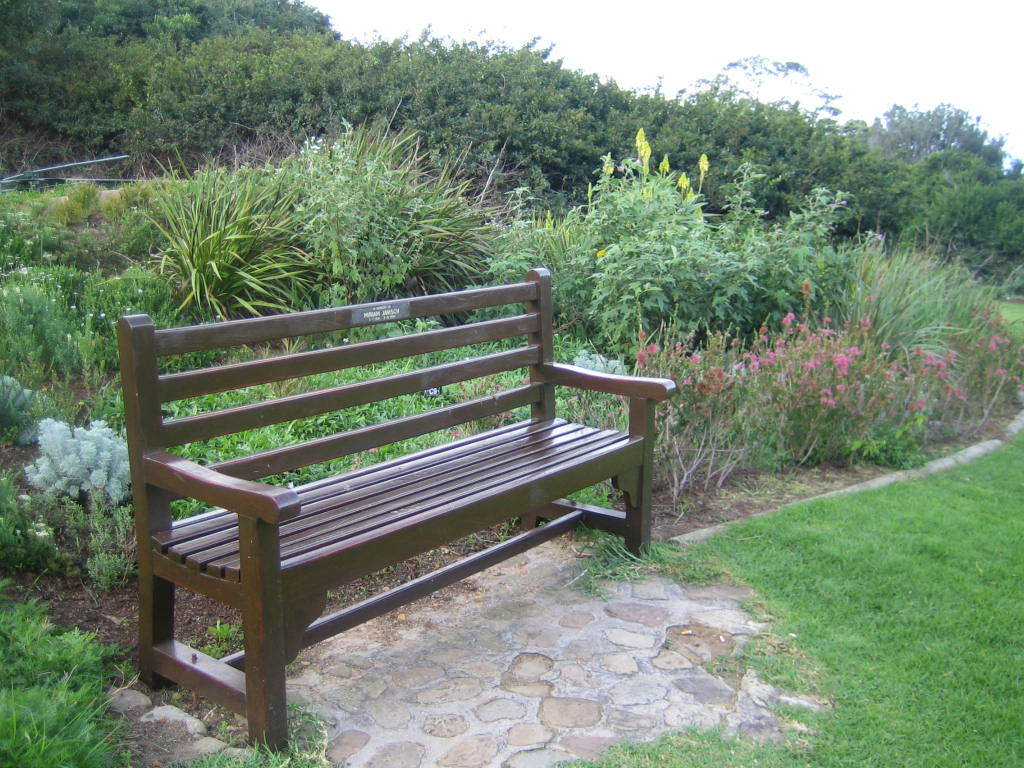Tree: (0, 0, 1023, 282)
